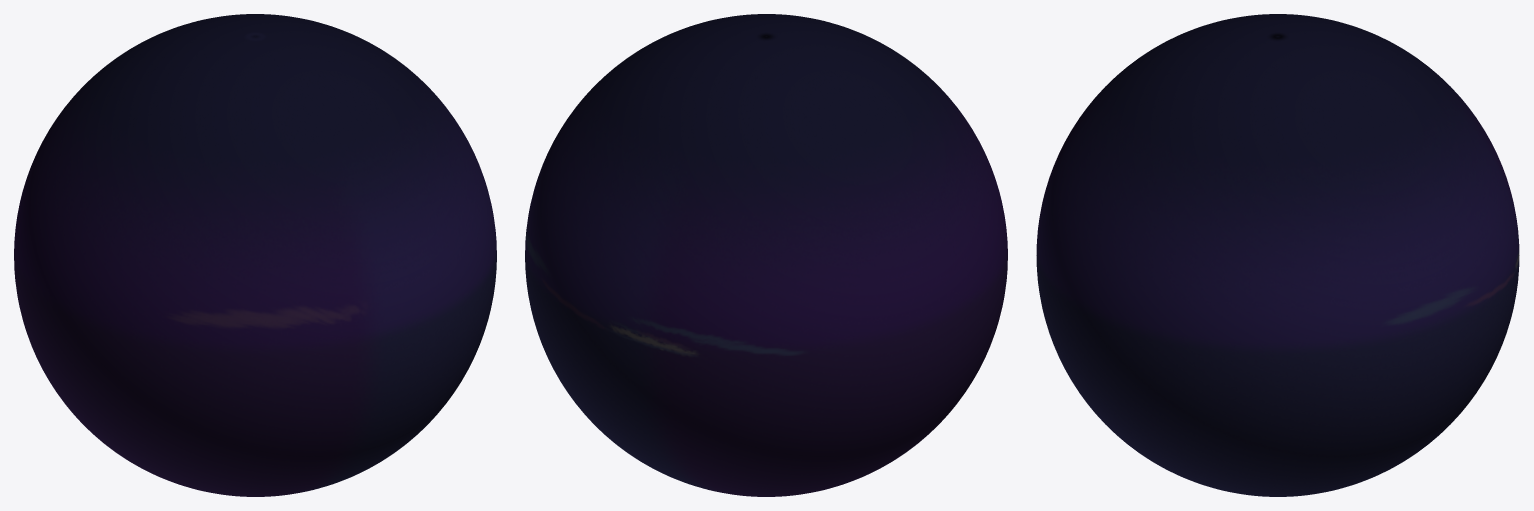
The model's file is MountainWorld.fbx.
3 views of the same model, side by side, from view 1: azimuth 30°, elevation 25°; view 2: azimuth 150°, elevation 25°; view 3: azimuth 270°, elevation 25° (orthographic).
Parts seen in each view (by area): view 1: DistantSkyMesh; view 2: DistantSkyMesh; view 3: DistantSkyMesh.
Part boxes in pixels (x1=…): DistantSkyMesh: x1=14, y1=14, x2=496, y2=496; DistantSkyMesh: x1=525, y1=14, x2=1007, y2=496; DistantSkyMesh: x1=1036, y1=14, x2=1519, y2=496.
Size of the model in its own units: 66000 by 66000 by 66000.
